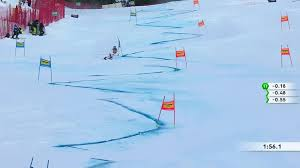skier: (99, 43, 126, 64)
